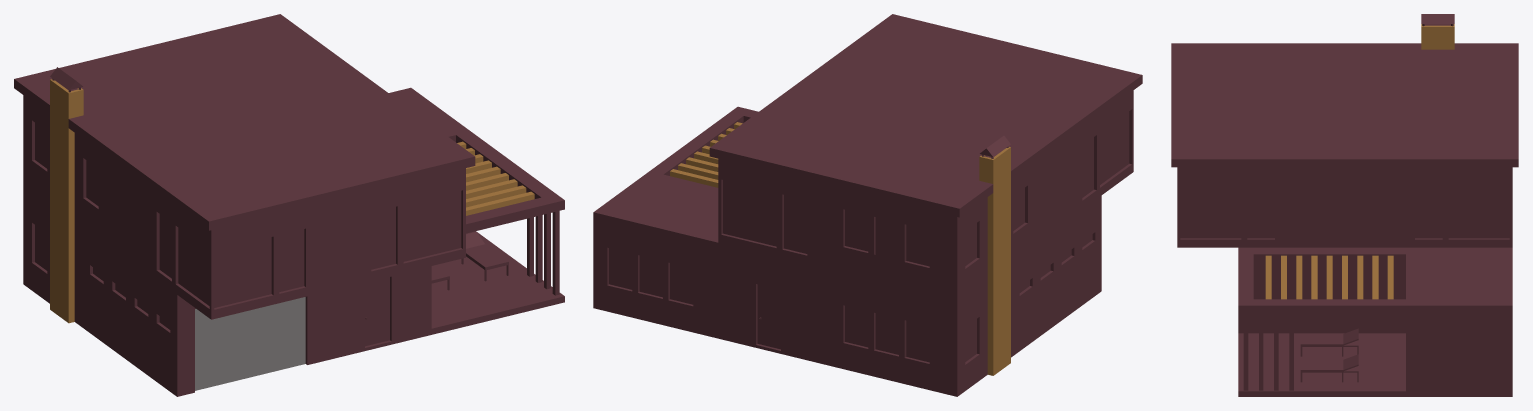
The model's file is building-house-modern.fbx.
The picture shows the model from 3 angles, left to right: view 1: azimuth 30°, elevation 25°; view 2: azimuth 150°, elevation 25°; view 3: azimuth 270°, elevation 25°; orthographic projection. The views are drawn at different scales.
Visible parts, largest first — view 1: building-house-modern; view 2: building-house-modern; view 3: building-house-modern.
Part boxes in pixels (box(x1,y1,x2,y2)): building-house-modern: box(14, 14, 564, 396); building-house-modern: box(593, 14, 1142, 396); building-house-modern: box(1171, 14, 1518, 396).
Size of the model in its own units: 13.3 by 7.77 by 11.4.
